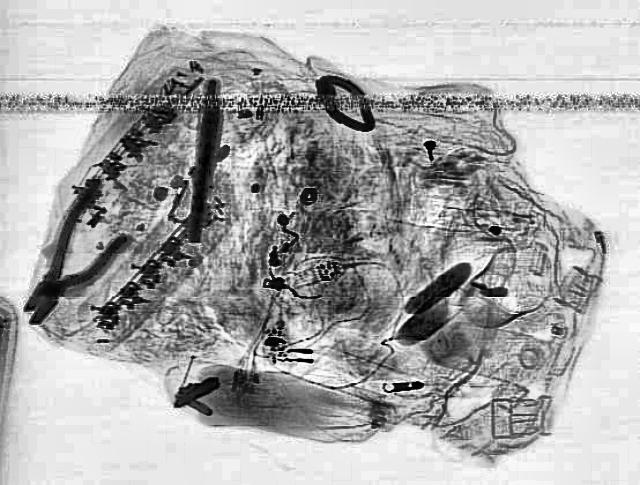Pliers: (0, 186, 146, 325)
